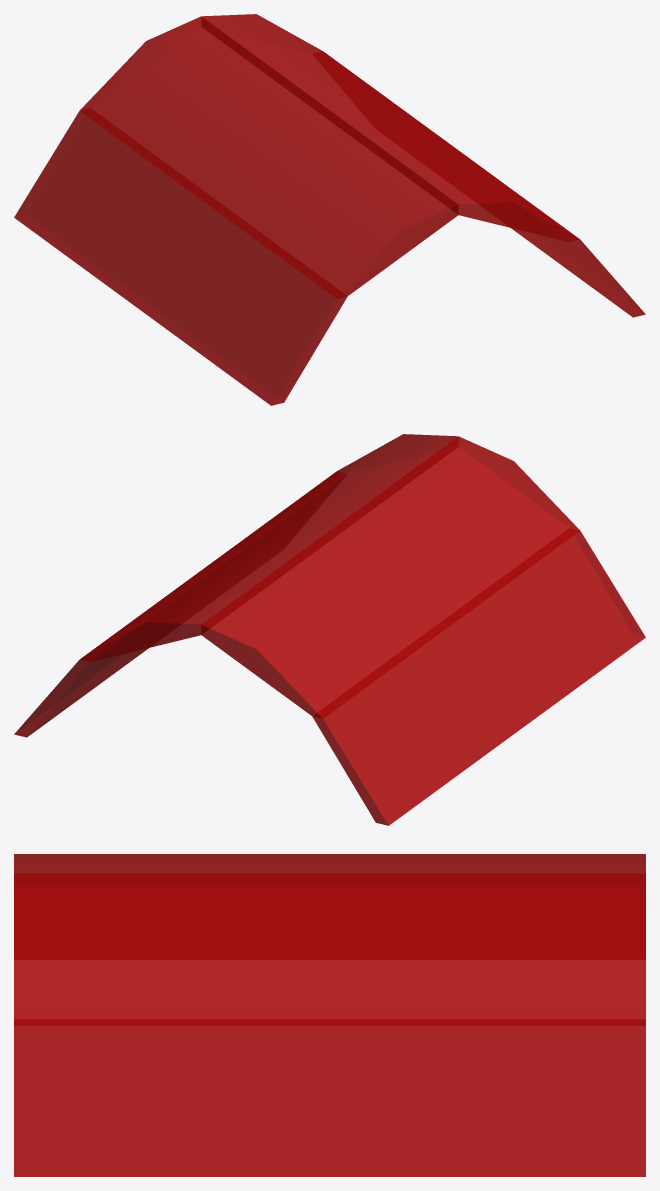
The model's file is SM_Bld_Tent_Cover_01_Collision.fbx.
3 renders of one model, top to bottom at view 1: azimuth 30°, elevation 25°; view 2: azimuth 150°, elevation 25°; view 3: azimuth 270°, elevation 25°, orthographic. The views are drawn at different scales.
Parts seen in each view (by area): view 1: SM_Bld_Tent_Cover_01_Collision; view 2: SM_Bld_Tent_Cover_01_Collision; view 3: SM_Bld_Tent_Cover_01_Collision.
Boxes of the visible parts, x1,y1,x2,y2 form: SM_Bld_Tent_Cover_01_Collision: [14, 14, 645, 405]; SM_Bld_Tent_Cover_01_Collision: [14, 434, 645, 825]; SM_Bld_Tent_Cover_01_Collision: [14, 854, 645, 1176].
Size of the model in its own units: 916 by 364 by 1089.
